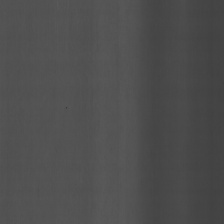inclusion: (65, 104, 68, 111)
